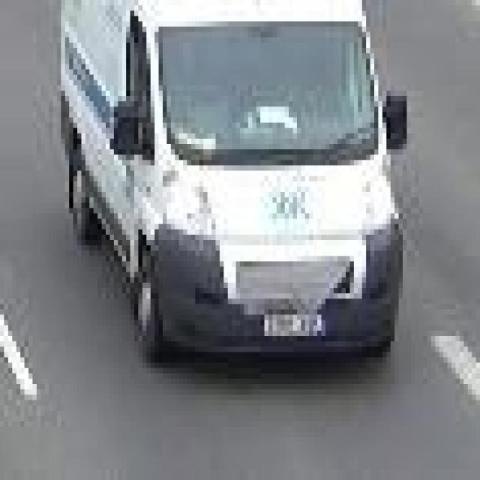van: (59, 0, 404, 357)
